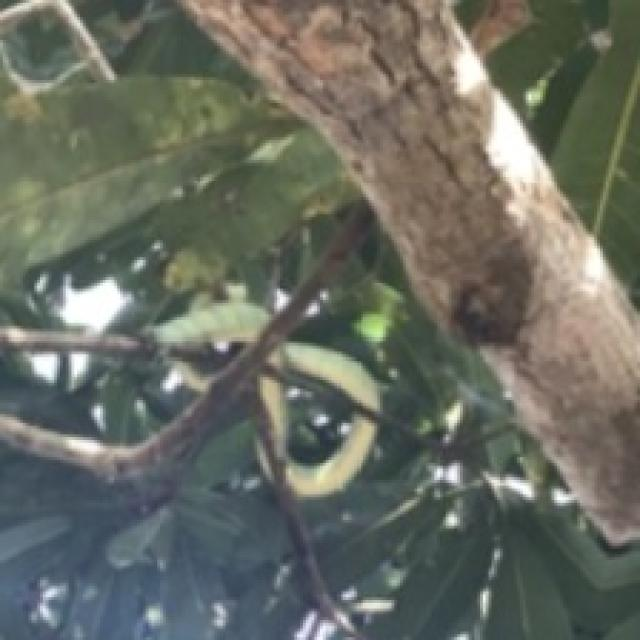north ph temple pitviper: (269, 340, 377, 494), (269, 340, 377, 411), (286, 411, 374, 494)
